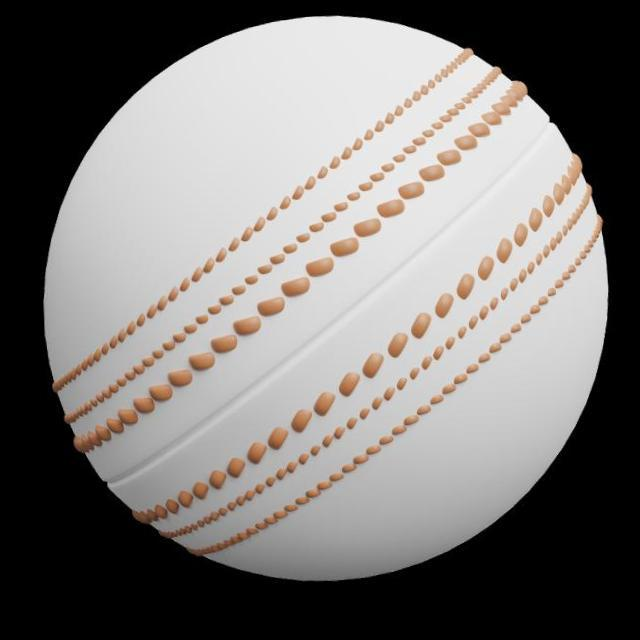cricket ball: (43, 21, 606, 584)
